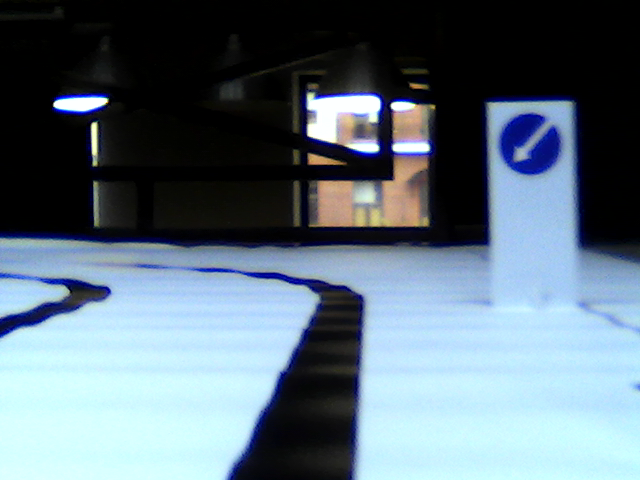prep: (497, 111, 566, 174)
